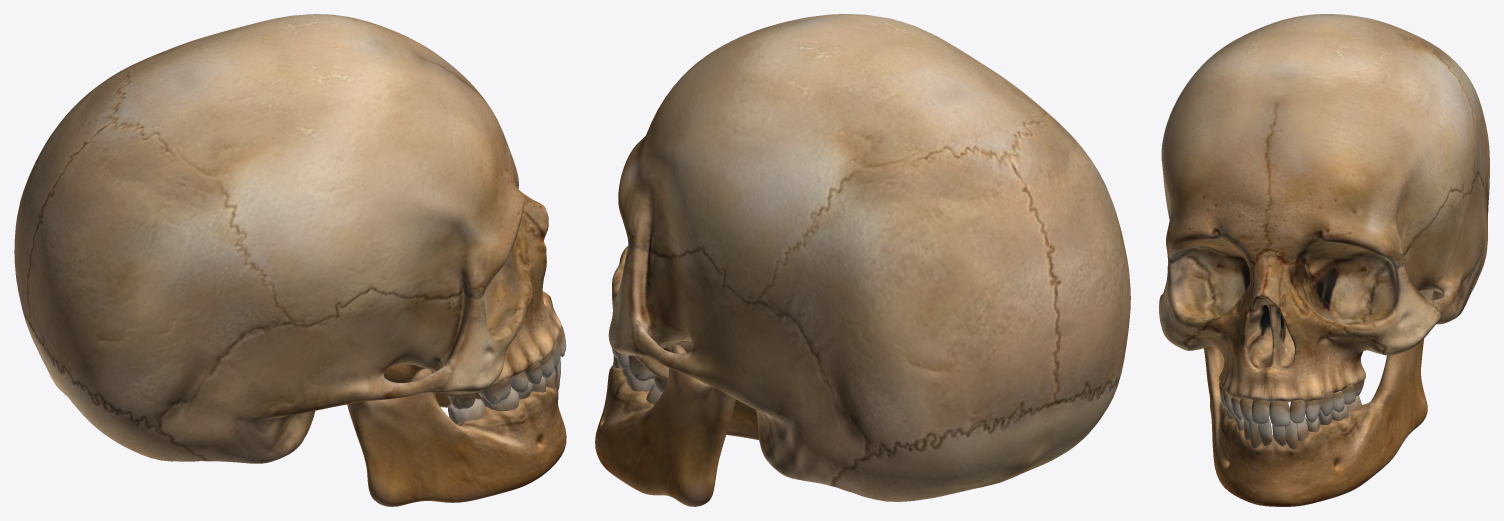
Rendered from Skull.glb.
3 renders of one model, left to right at view 1: azimuth 30°, elevation 25°; view 2: azimuth 150°, elevation 25°; view 3: azimuth 270°, elevation 25°, orthographic. The views are drawn at different scales.
Parts seen in each view (by area): view 1: 12140_Skull_v3_L2; view 2: 12140_Skull_v3_L2; view 3: 12140_Skull_v3_L2.
Part boxes in pixels (box(x1,y1,x2,y2)): 12140_Skull_v3_L2: box(14, 14, 566, 506); 12140_Skull_v3_L2: box(595, 14, 1130, 506); 12140_Skull_v3_L2: box(1159, 14, 1489, 506).
Size of the model in its own units: 30.43 by 26.73 by 21.35.
1 material, 1 textured.
